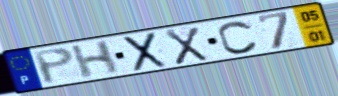7: (256, 9, 293, 51)
C: (216, 19, 261, 55)
H: (68, 38, 121, 81)
P: (30, 46, 76, 86)
X: (122, 30, 169, 74), (163, 26, 210, 67)
